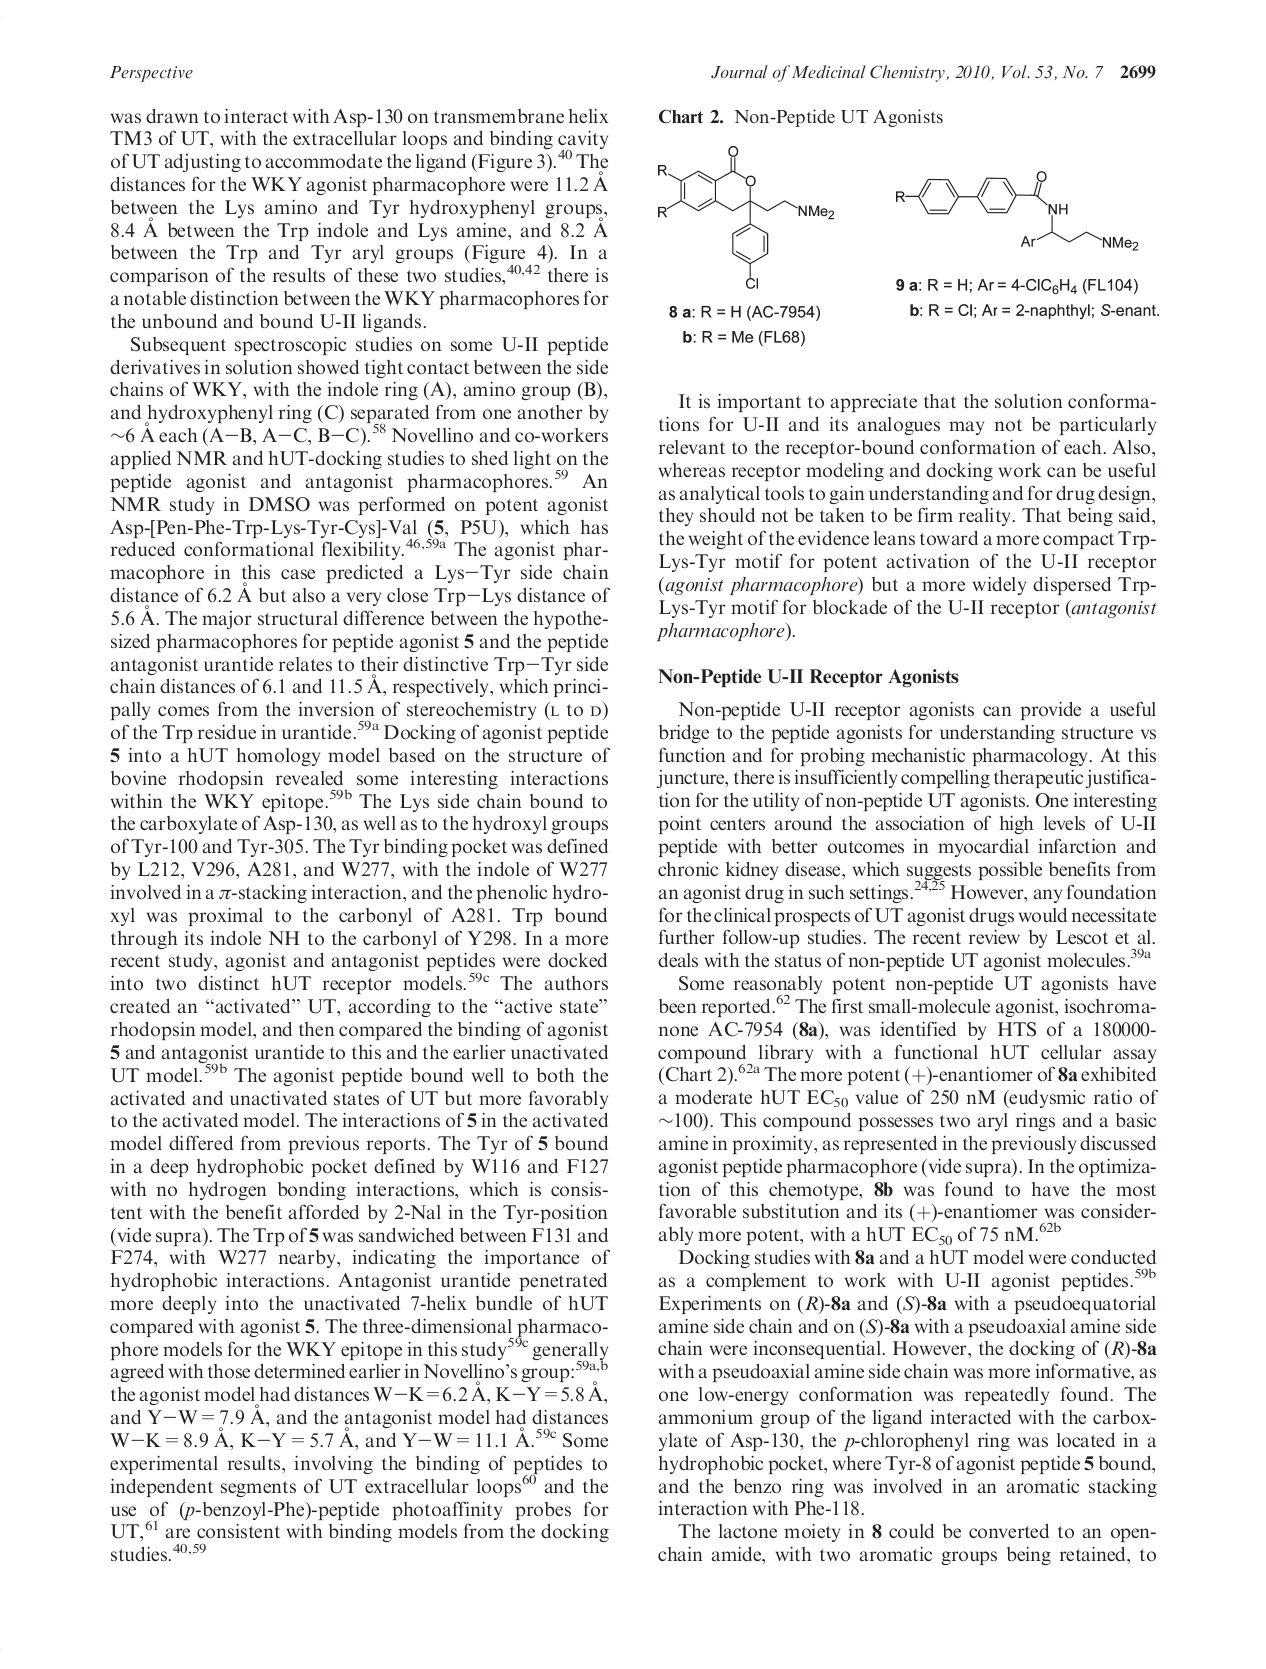exist_molecular: (656, 144, 835, 289), (894, 170, 1144, 253)
